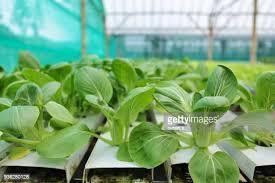Healthy-Pechay: (0, 45, 262, 157)
